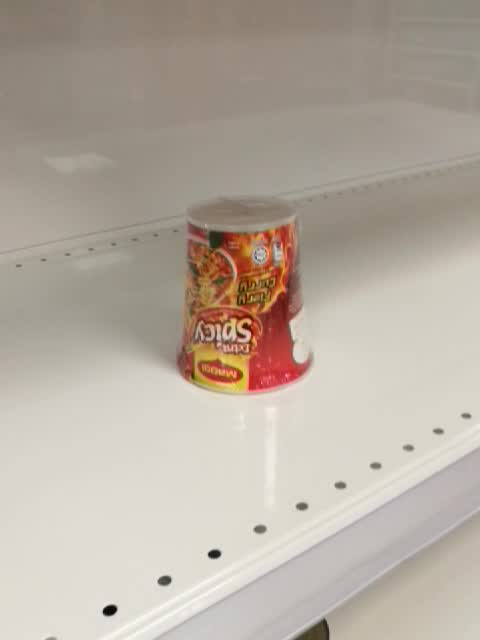maggi: (177, 196, 316, 397)
